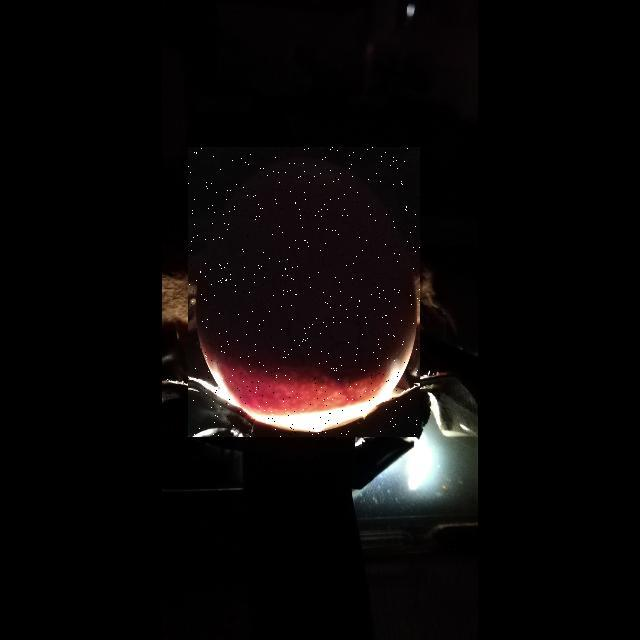Fertile: (188, 147, 420, 437)
